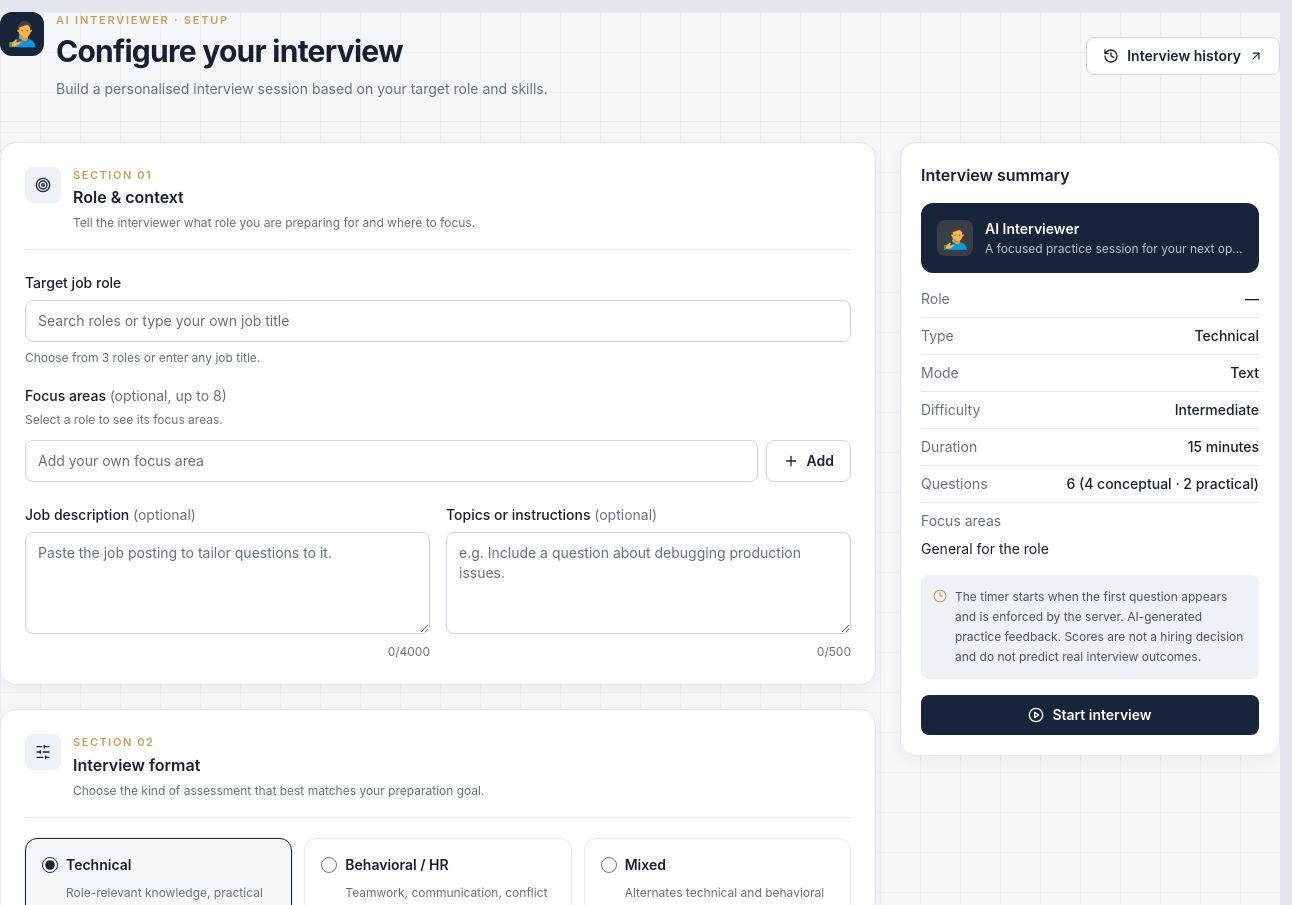
Test: validates the configuration before creating an interview
The image size is (1292, 905).
Click the button "Start interview".
click(1090, 714)  # box [921, 694, 1259, 734]
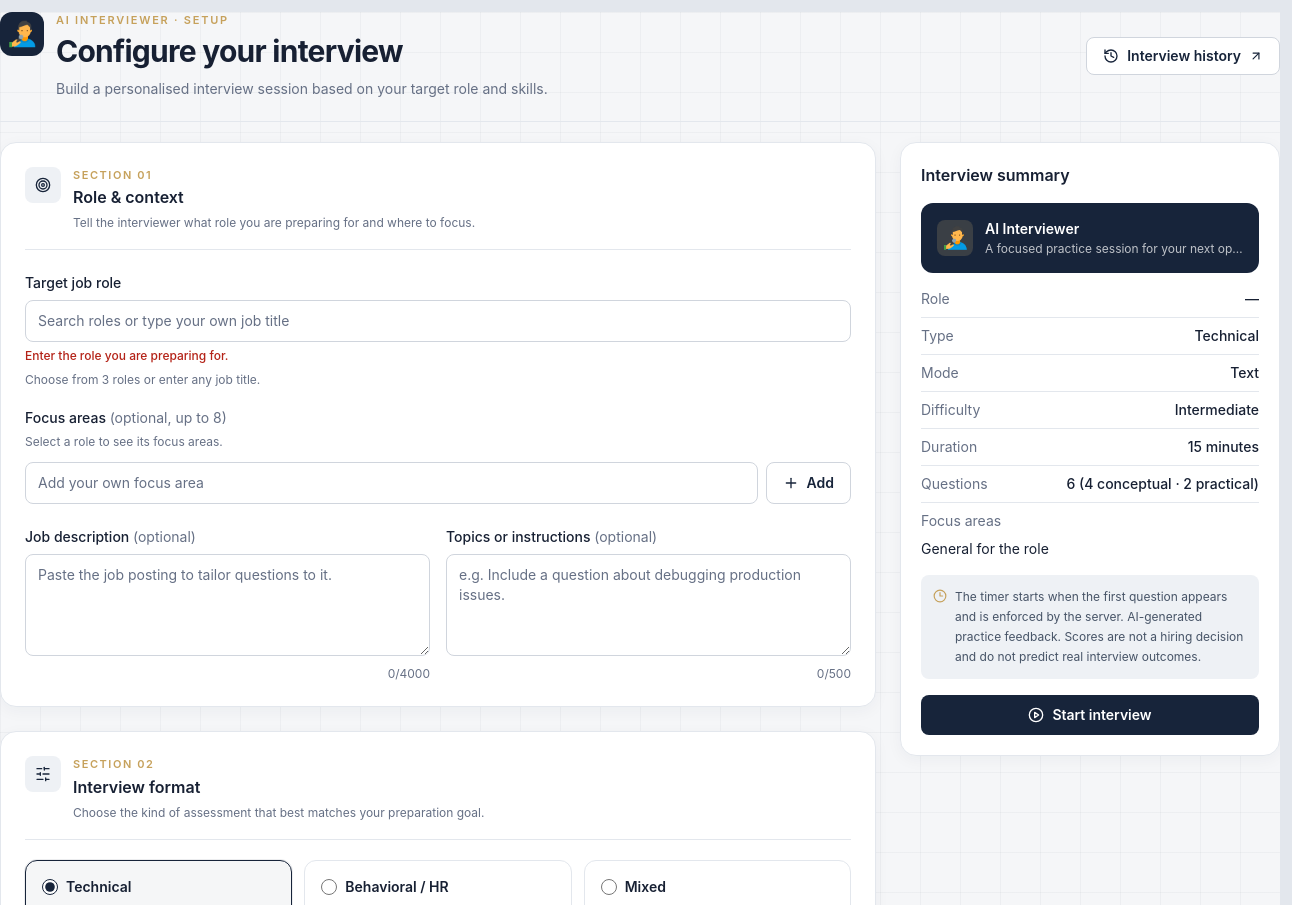
Now the text "Enter the role you are preparing for." is shown, box [25, 348, 228, 363]
